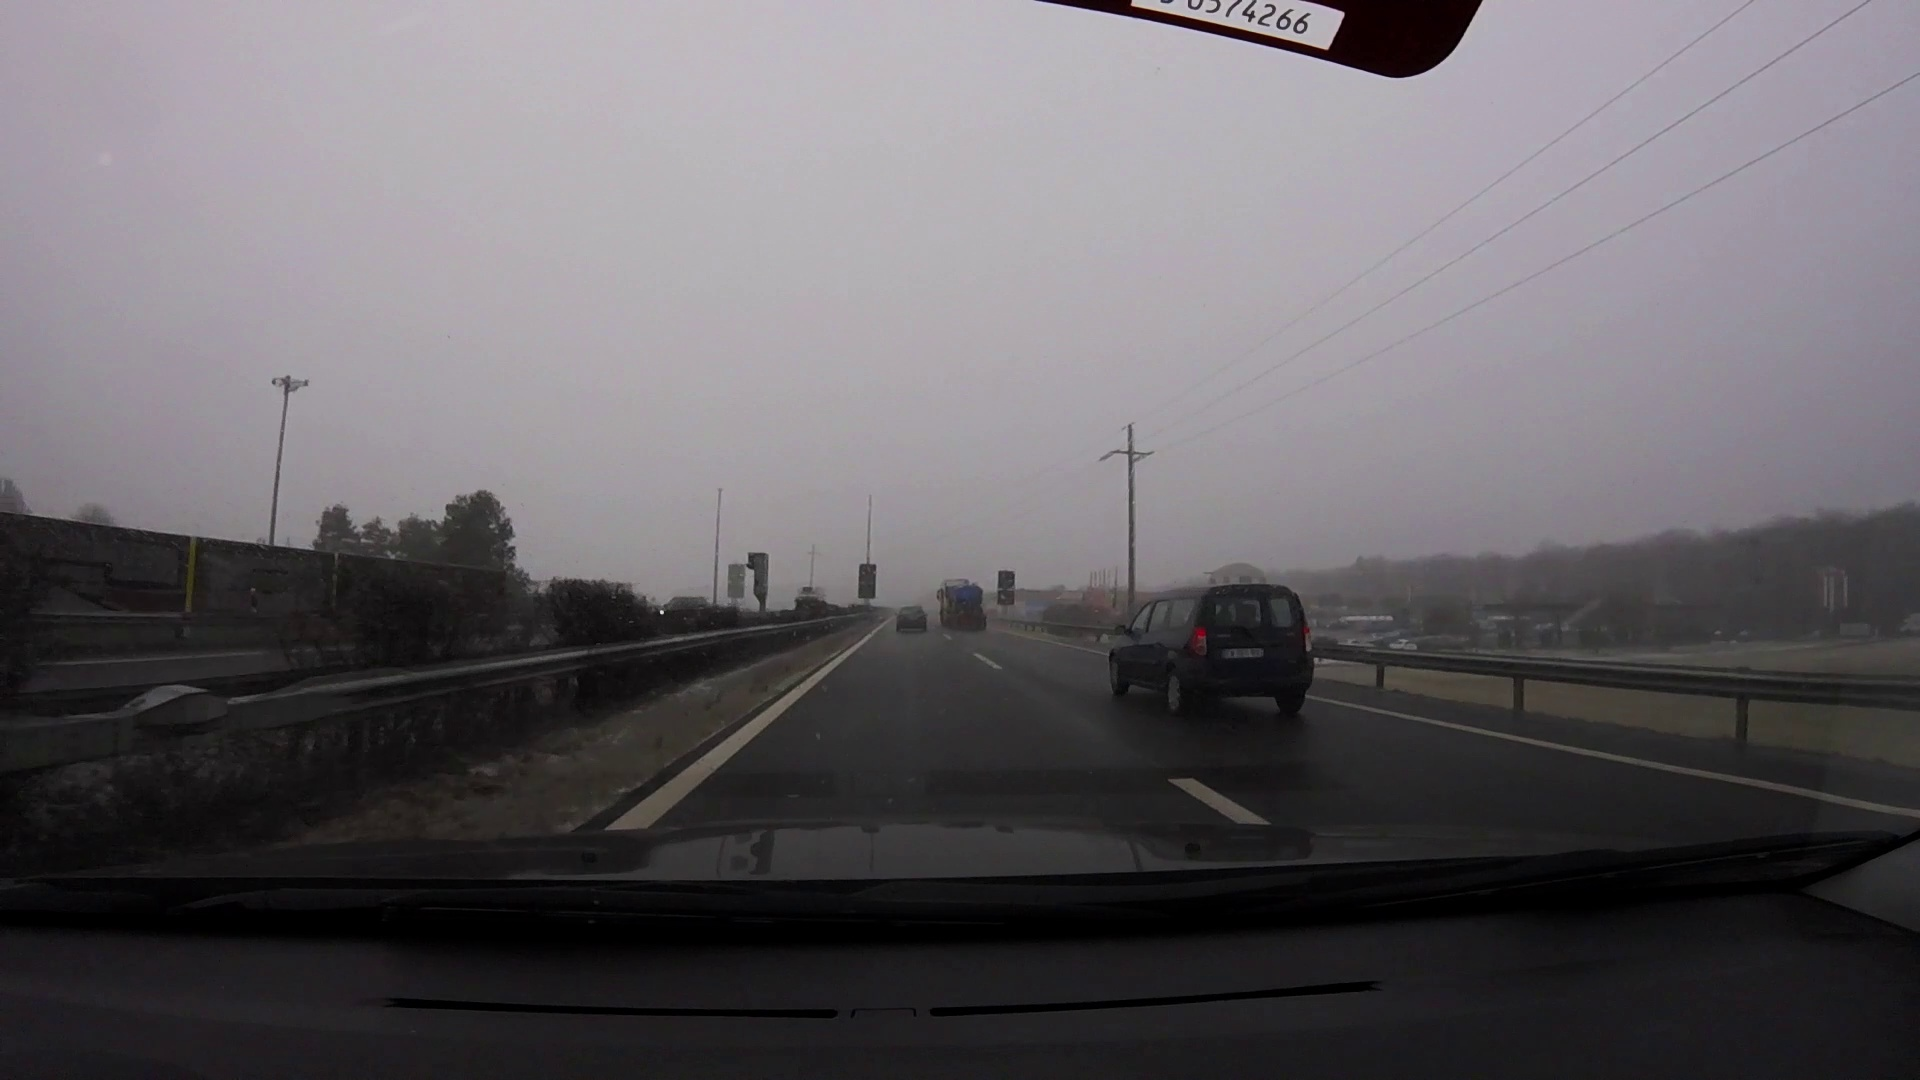radar: (744, 551, 771, 607)
